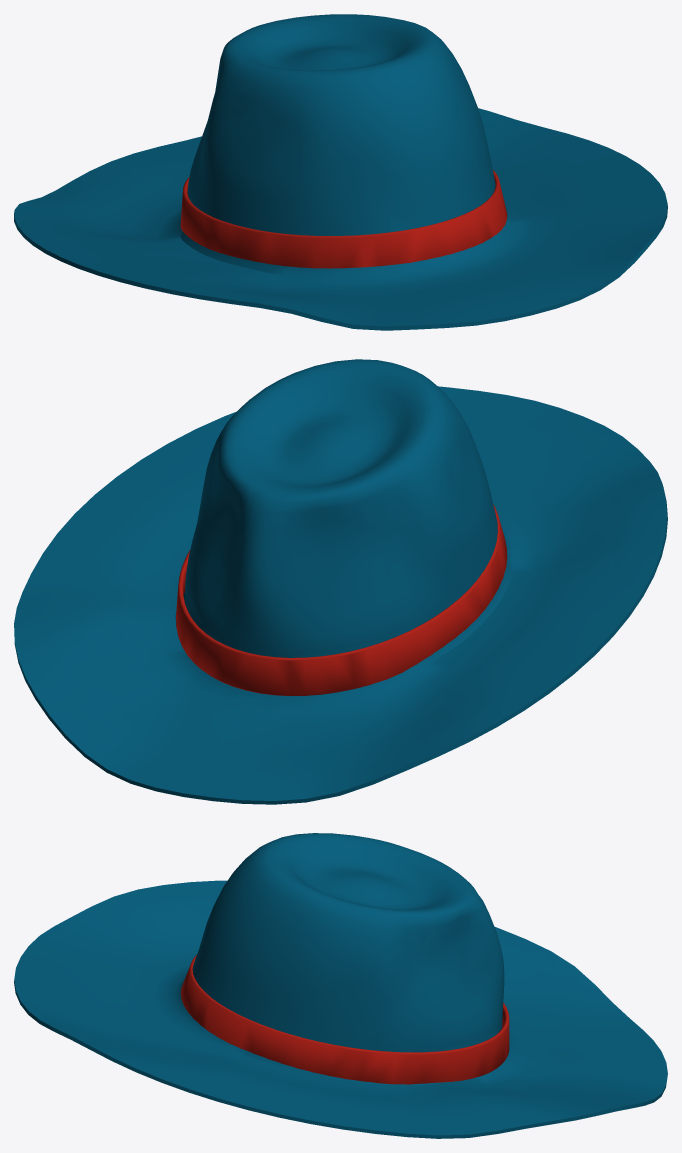
The model's file is hat.glb.
3 views of the same model, one above another, from view 1: azimuth 30°, elevation 25°; view 2: azimuth 150°, elevation 25°; view 3: azimuth 270°, elevation 25° (orthographic). The views are drawn at different scales.
Parts seen in each view (by area): view 1: Hat; view 2: Hat; view 3: Hat.
Boxes of the visible parts, x1,y1,x2,y2 form: Hat: [14, 14, 667, 330]; Hat: [14, 359, 667, 804]; Hat: [14, 833, 667, 1138].
Bounding box in the file's own units: 0.347 × 0.1583 × 0.4226.
